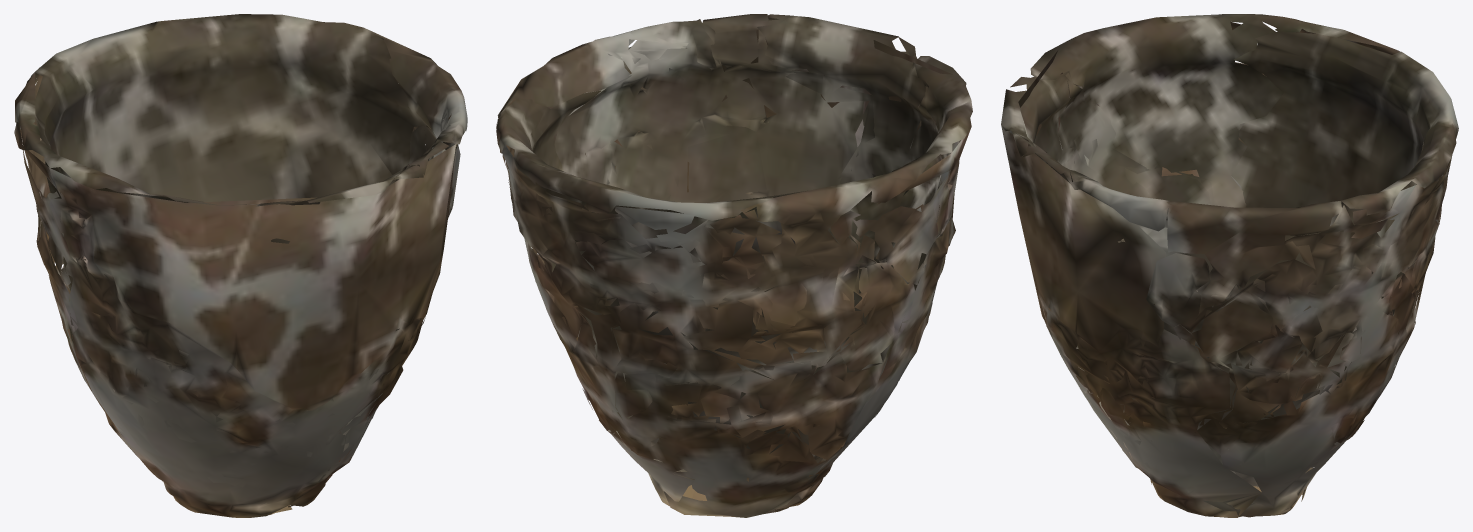
Rendered from hm-bronze-age-cinerary-urn.lod1.glb.
3 views of the same model, side by side, from view 1: azimuth 30°, elevation 25°; view 2: azimuth 150°, elevation 25°; view 3: azimuth 270°, elevation 25° (orthographic).
Parts seen in each view (by area): view 1: Object_2, Object_3, Object_5, Object_4, Object_6; view 2: Object_4, Object_5, Object_3, Object_6, Object_2; view 3: Object_4, Object_5, Object_2, Object_3, Object_6.
Boxes of the visible parts, x1,y1,x2,y2 form: Object_2: [23, 144, 458, 517]; Object_3: [22, 14, 431, 514]; Object_5: [14, 28, 460, 481]; Object_4: [15, 67, 467, 447]; Object_6: [20, 130, 426, 442]; Object_4: [498, 14, 941, 506]; Object_5: [496, 14, 972, 517]; Object_3: [496, 90, 958, 513]; Object_6: [507, 145, 923, 481]; Object_2: [589, 29, 971, 509]; Object_4: [1010, 14, 1452, 516]; Object_5: [1001, 14, 1447, 517]; Object_2: [1001, 21, 1261, 517]; Object_3: [1047, 31, 1458, 503]; Object_6: [1191, 130, 1458, 471].
Bounding box in the file's own units: 0.3502 × 0.3227 × 0.3473.
Materials: 1 (1 with a texture image).
